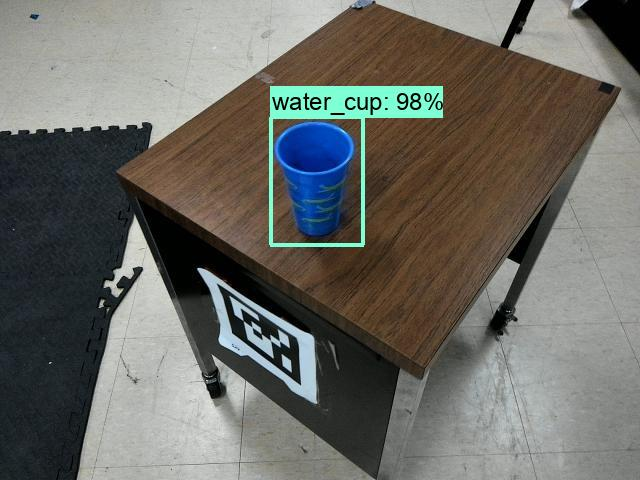water_cup: (272, 115, 357, 241)
